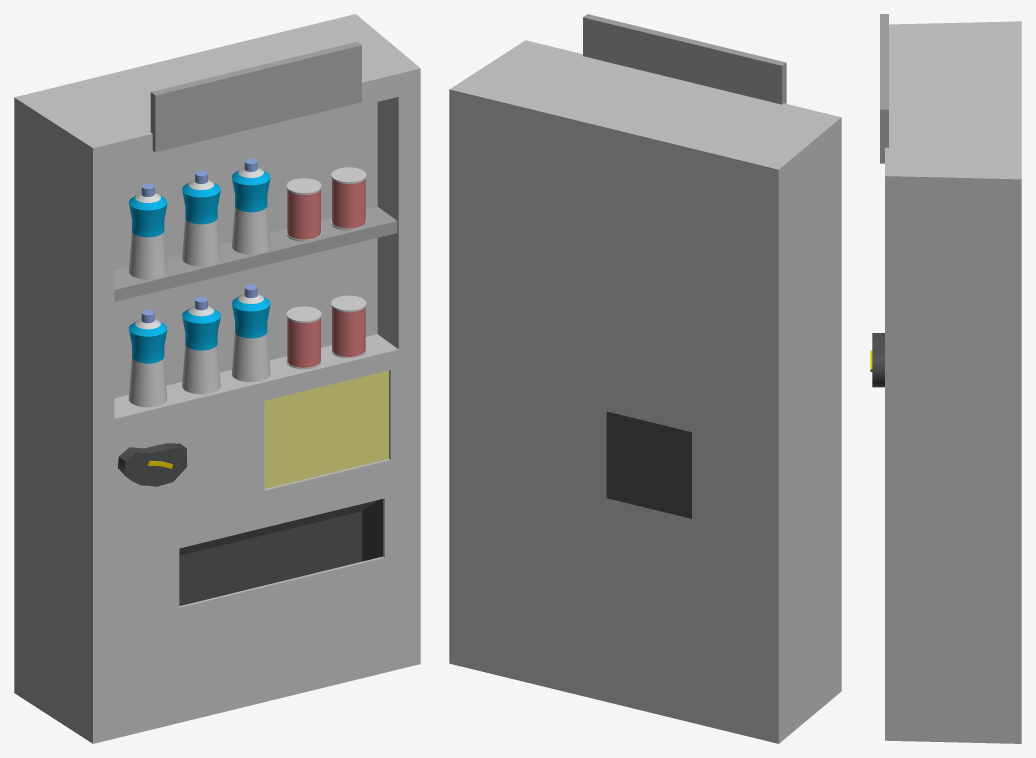
File: VendingMachine.fbx
3 renders of one model, left to right at view 1: azimuth 30°, elevation 25°; view 2: azimuth 150°, elevation 25°; view 3: azimuth 270°, elevation 25°, orthographic. The views are drawn at different scales.
Visible parts, largest first — view 1: VendingMachine2; view 2: VendingMachine2; view 3: VendingMachine2.
Part boxes in pixels (x1,y1,x2,y2): VendingMachine2: (14, 14, 420, 743); VendingMachine2: (449, 14, 841, 743); VendingMachine2: (870, 14, 1021, 743).
Bounding box in the file's own units: 2.74 × 4.87 × 1.11.
